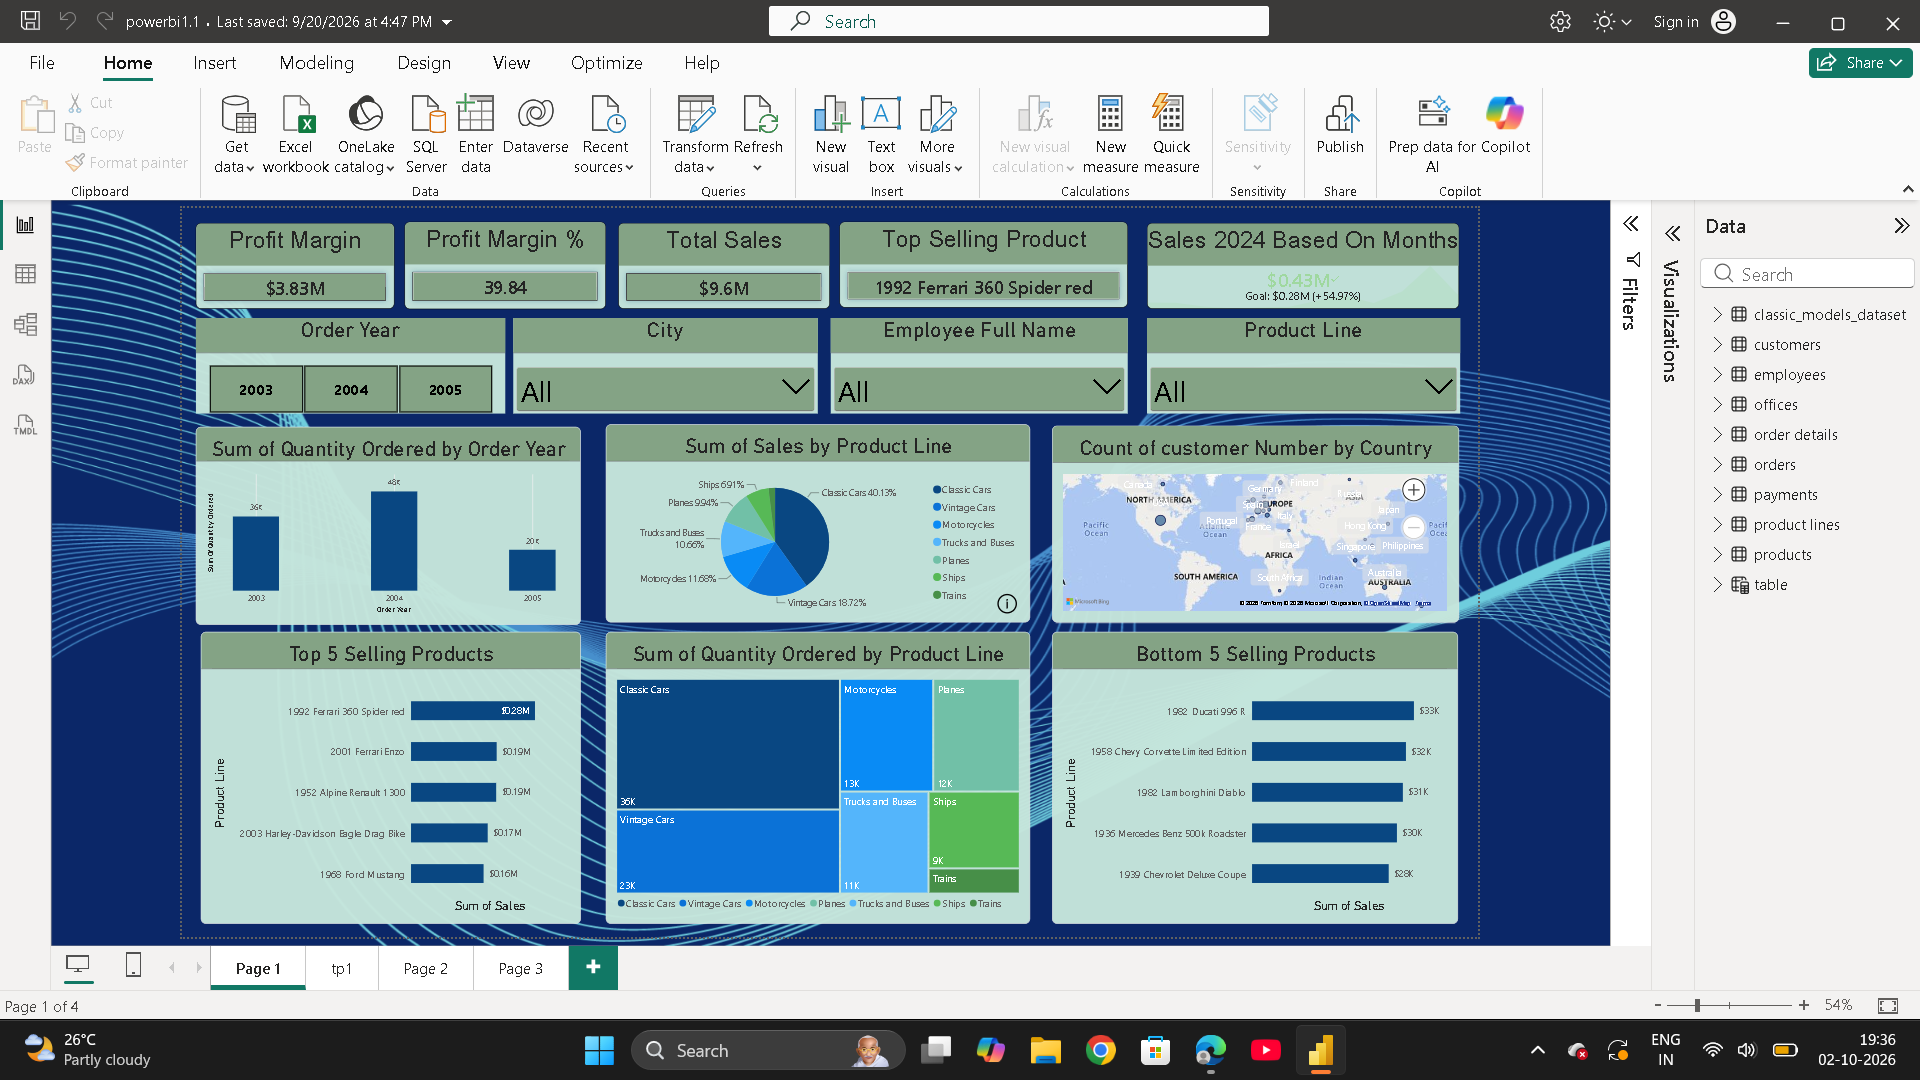

This screenshot's page, from the dashboard's own definition file:
{"tool":"powerbi","page":{"name":"Page 1","canvas":[1920,1080],"ordinal":0},"visuals":[{"type":"cardVisual","title":"Profit Margin","fields":{"Data":["order details.total_profit"]},"box":[19.6,21.6,294.1,127.5],"z":0},{"type":"cardVisual","title":"Top Selling Product","fields":{"Data":["order details.Most Ordered Product"]},"box":[974.5,19.6,427.5,127.5],"z":1000},{"type":"barChart","title":"Top 5 Selling Products","fields":{"Category":["products.productName"],"Y":["Sum(order details.Sales)"]},"box":[27.5,627.3,563.1,432.9],"z":2000},{"type":"pieChart","title":"Sum of Sales by Product Line","fields":{"Category":["product lines.productLine"],"Y":["Sum(order details.Sales)"]},"box":[627.3,321,629.1,293.5],"z":3000},{"type":"slicer","title":"Order Year","fields":{"Values":["orders.order_year"]},"box":[20.2,163.2,458.6,141.2],"z":4000},{"type":"kpi","title":"Sales 2024 Based On Months","fields":{"Goal":["order details.sales_2003"],"Indicator":["order details.sales_2004"],"TrendLine":["orders.Month Name"]},"box":[1429.4,21.6,462.7,127.5],"z":5000},{"type":"map","title":"Count of customer Number by Country","fields":{"Category":["customers.country"],"Size":["CountNonNull(customers.customerNumber)"]},"box":[1289.5,322.8,603.5,291.6],"z":6000},{"type":"clusteredColumnChart","title":"Sum of Quantity Ordered by Order Year","fields":{"Category":["orders.order_year"],"Y":["Sum(order details.quantityOrdered)"]},"box":[20.6,323.2,570.5,293.5],"z":7000},{"type":"cardVisual","title":"Profit Margin %","fields":{"Data":["classic_models_dataset.profit_margin_%"]},"box":[329.4,19.6,298,129.4],"z":8000},{"type":"cardVisual","title":"Total Sales","fields":{"Data":["Sum(order details.Sales)"]},"box":[647.1,21.6,313.7,127.5],"z":9000},{"type":"slicer","title":"Employee Full Name","fields":{"Values":["employees.Employee Full Name"]},"box":[961.1,163.2,440.2,141.2],"z":10000},{"type":"slicer","title":"City","fields":{"Values":["offices.city"]},"box":[491.6,163.2,451.2,141.2],"z":11000},{"type":"slicer","title":"Product Line","fields":{"Values":["product lines.productLine"]},"box":[1428.9,163.2,464.1,141.2],"z":12000},{"type":"treemap","title":"Sum of Quantity Ordered by Product Line","fields":{"Group":["product lines.productLine"],"Values":["Sum(order details.quantityOrdered)"]},"box":[627.3,627.3,629.1,432.9],"z":13000},{"type":"barChart","title":"Bottom 5 Selling Products","fields":{"Category":["products.productName"],"Y":["Sum(order details.Sales)"]},"box":[1289.5,627.3,601.6,432.9],"z":14000},{"type":"actionButton","box":[1188.2,558.1,66.5,57.3],"z":15000}]}

Visuals, with their boxes on the page's 1920x1080 design canvas (x1, y1, x2, y2). These are canvas units, not pixel positions in the 1920x1080 screenshot, which may show the page scaled, cropped or inside an application window:
"Profit Margin" cardVisual: (left=20, top=22, right=314, bottom=149)
"Top Selling Product" cardVisual: (left=974, top=20, right=1402, bottom=147)
"Top 5 Selling Products" barChart: (left=28, top=627, right=591, bottom=1060)
"Sum of Sales by Product Line" pieChart: (left=627, top=321, right=1256, bottom=614)
"Order Year" slicer: (left=20, top=163, right=479, bottom=304)
"Sales 2024 Based On Months" kpi: (left=1429, top=22, right=1892, bottom=149)
"Count of customer Number by Country" map: (left=1290, top=323, right=1893, bottom=614)
"Sum of Quantity Ordered by Order Year" clusteredColumnChart: (left=21, top=323, right=591, bottom=617)
"Profit Margin %" cardVisual: (left=329, top=20, right=627, bottom=149)
"Total Sales" cardVisual: (left=647, top=22, right=961, bottom=149)
"Employee Full Name" slicer: (left=961, top=163, right=1401, bottom=304)
"City" slicer: (left=492, top=163, right=943, bottom=304)
"Product Line" slicer: (left=1429, top=163, right=1893, bottom=304)
"Sum of Quantity Ordered by Product Line" treemap: (left=627, top=627, right=1256, bottom=1060)
"Bottom 5 Selling Products" barChart: (left=1290, top=627, right=1891, bottom=1060)
actionButton: (left=1188, top=558, right=1255, bottom=615)
